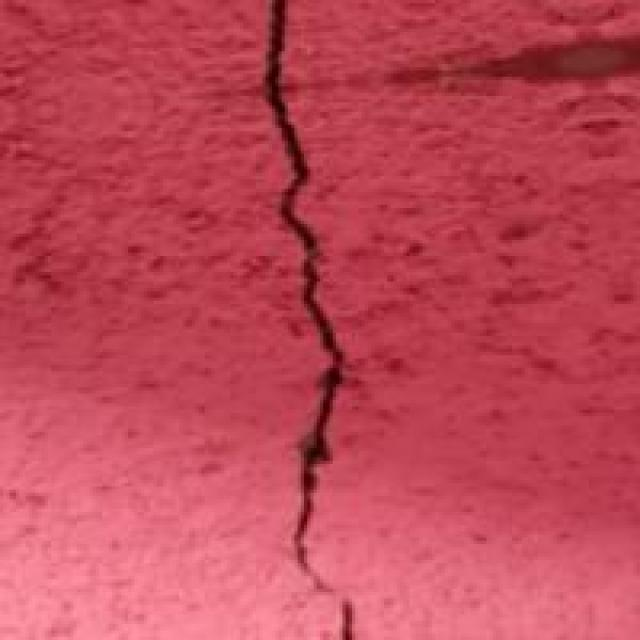crack: (195, 6, 397, 637)
